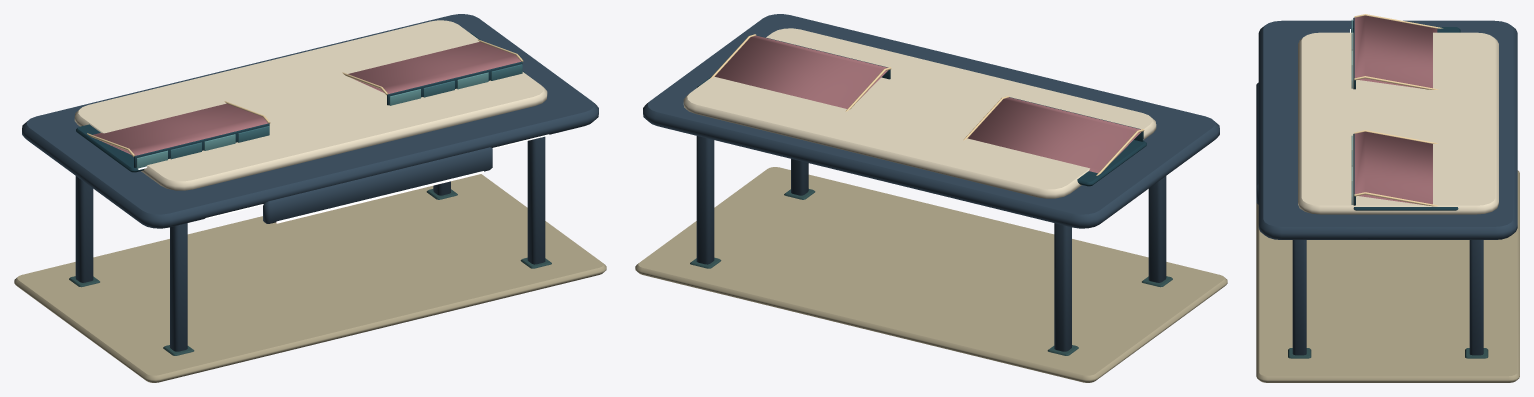
The model's file is luxury_fuel.glb.
3 renders of one model, left to right at view 1: azimuth 30°, elevation 25°; view 2: azimuth 150°, elevation 25°; view 3: azimuth 270°, elevation 25°, orthographic. The views are drawn at different scales.
Parts seen in each view (by area): view 1: LuxuryFuel; view 2: LuxuryFuel; view 3: LuxuryFuel.
Part boxes in pixels (x1=…): LuxuryFuel: x1=14, y1=14, x2=606, y2=382; LuxuryFuel: x1=635, y1=14, x2=1227, y2=382; LuxuryFuel: x1=1256, y1=14, x2=1519, y2=382.
Size of the model in its own units: 10.68 by 4.12 by 5.63.
